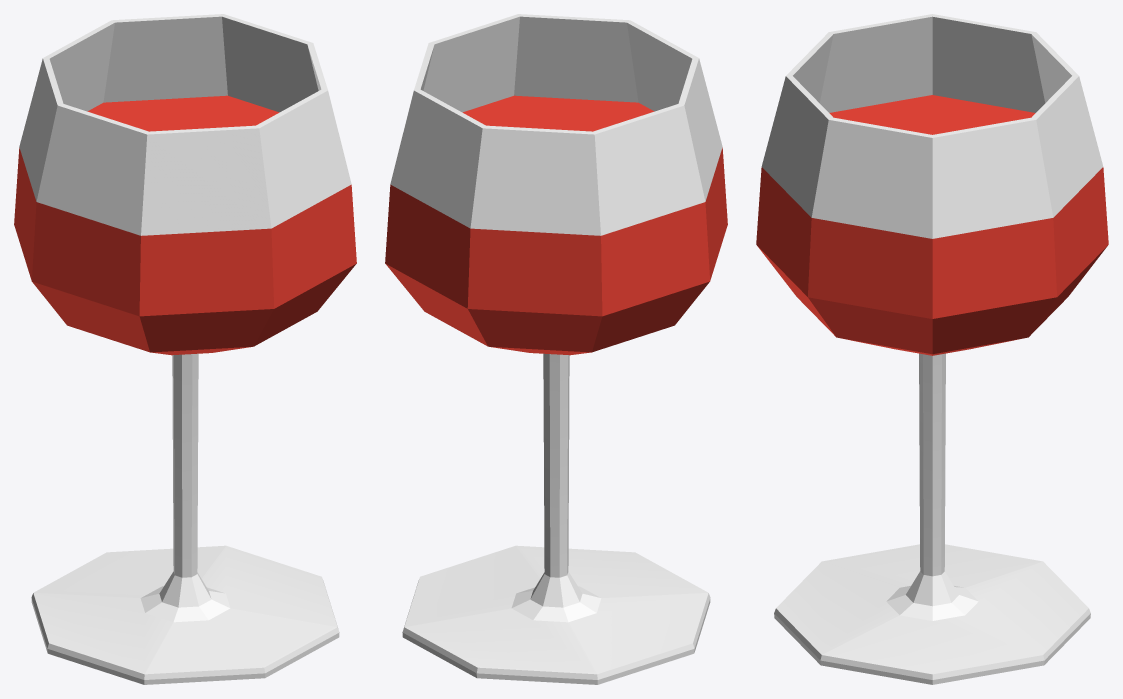
Rendered from wine.glb.
The picture shows the model from 3 angles, left to right: view 1: azimuth 30°, elevation 25°; view 2: azimuth 150°, elevation 25°; view 3: azimuth 270°, elevation 25°; orthographic projection.
Parts seen in each view (by area): view 1: wine; view 2: wine; view 3: wine.
Boxes of the visible parts, x1,y1,x2,y2 form: wine: (14,14,356,684); wine: (385,14,727,684); wine: (756,14,1108,684).
Size of the model in its own units: 0.3138 by 0.5325 by 0.3138.
